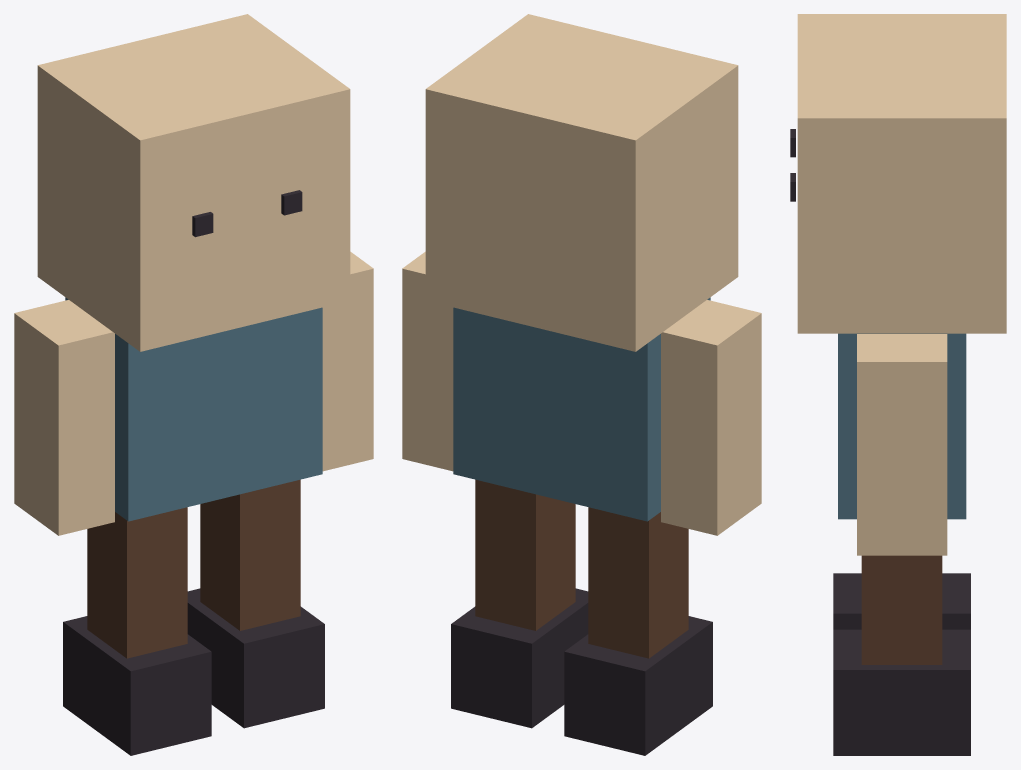
The model's file is chr_body_m.glb.
3 views of the same model, side by side, from view 1: azimuth 30°, elevation 25°; view 2: azimuth 150°, elevation 25°; view 3: azimuth 270°, elevation 25° (orthographic).
Visible parts, largest first — view 1: chr_body_m; view 2: chr_body_m; view 3: chr_body_m.
Part boxes in pixels (x1,y1,x2,y2): chr_body_m: (14,14,373,755); chr_body_m: (402,14,761,755); chr_body_m: (790,14,1006,755).
Size of the model in its own units: 0.78 by 1.49 by 0.455.
1 material, 1 textured.
